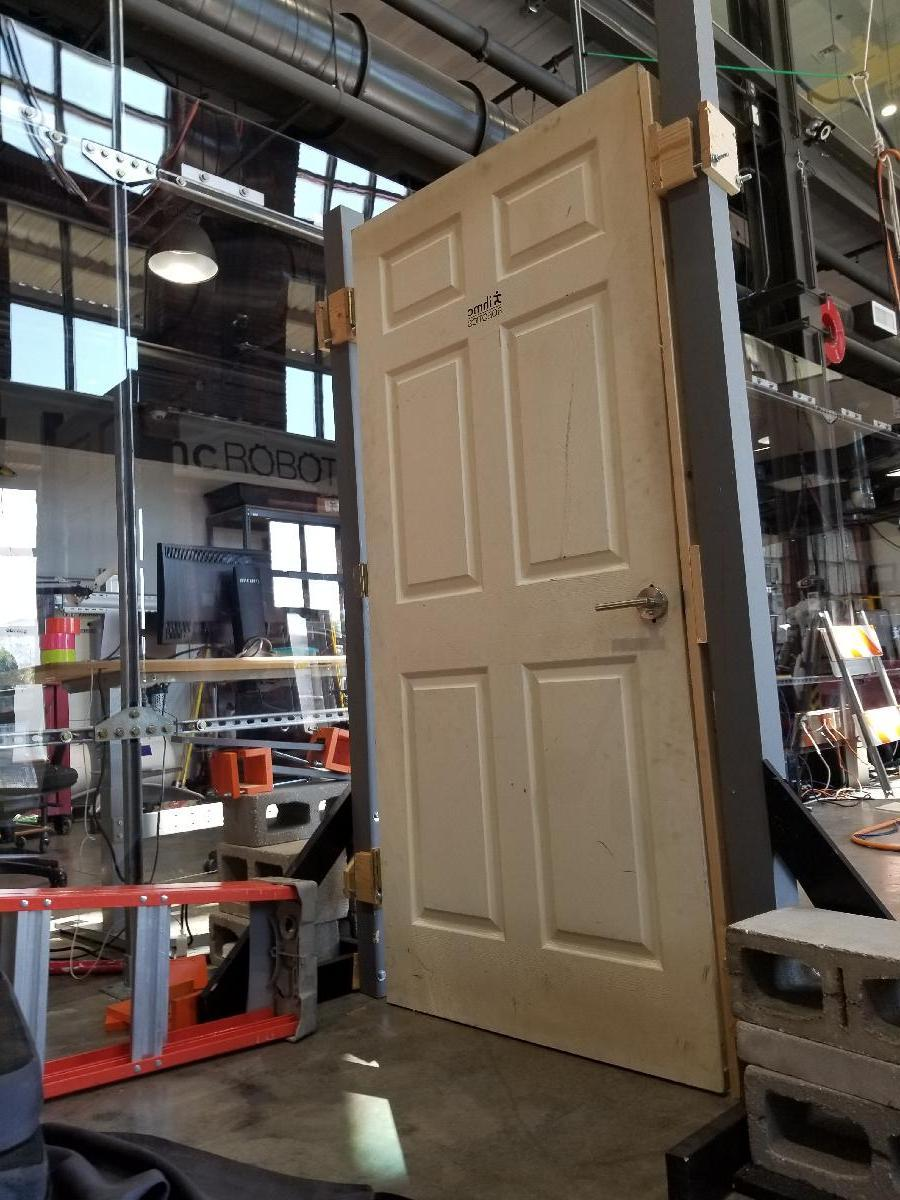door: (359, 62, 738, 1113)
handle: (591, 576, 672, 634)
